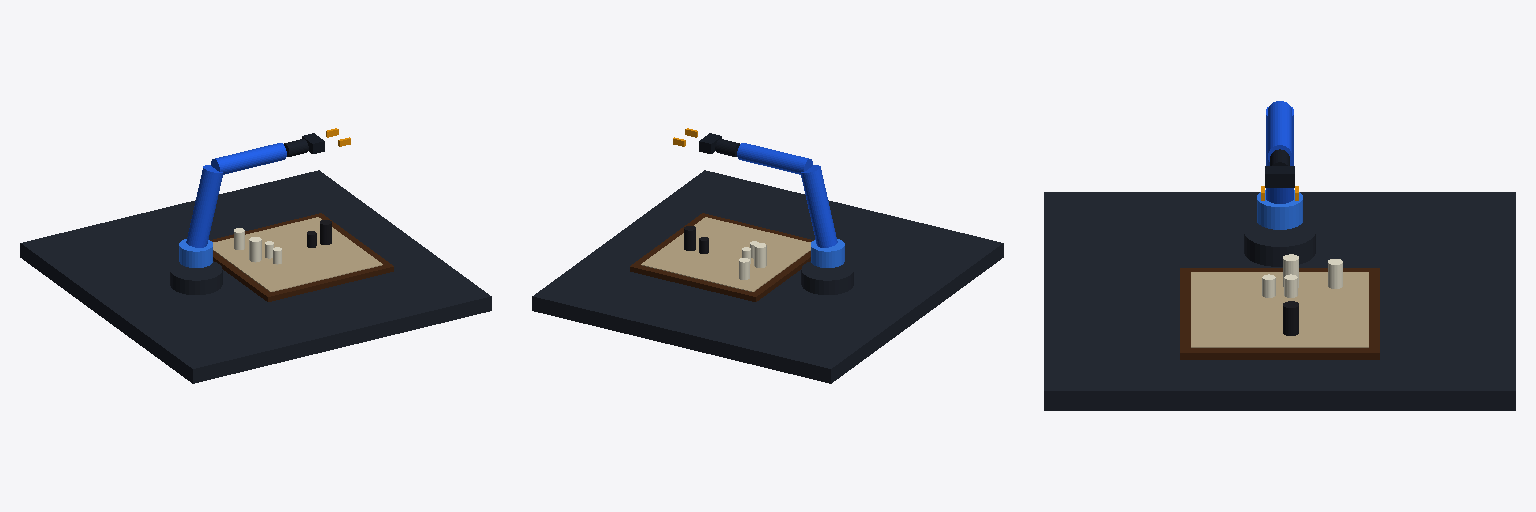
robot.urdf — rx200_chess:
<?xml version="1.0" ?>
<!-- Trossen RX200 Robot Arm with Chessboard and Pick-and-Place Pieces -->
<robot name="rx200_chess">

  <!-- Materials matching Portfolio Demo Video -->
  <material name="table_mat">
    <color rgba="0.16 0.18 0.22 1.0"/>
  </material>
  <material name="board_border_mat">
    <color rgba="0.30 0.18 0.10 1.0"/>
  </material>
  <material name="board_surface_mat">
    <color rgba="0.75 0.68 0.55 1.0"/>
  </material>
  <material name="white_piece_mat">
    <color rgba="0.94 0.92 0.84 1.0"/>
  </material>
  <material name="black_piece_mat">
    <color rgba="0.14 0.14 0.16 1.0"/>
  </material>
  <material name="arm_base_mat">
    <color rgba="0.16 0.18 0.22 1.0"/>
  </material>
  <material name="arm_primary_mat">
    <color rgba="0.15 0.39 0.92 1.0"/>
  </material>
  <material name="arm_accent_mat">
    <color rgba="0.23 0.51 0.96 1.0"/>
  </material>
  <material name="wrist_mat">
    <color rgba="0.12 0.14 0.18 1.0"/>
  </material>
  <material name="finger_mat">
    <color rgba="0.96 0.62 0.07 1.0"/>
  </material>

  <!-- ================= BASE TABLE & CHESS ENVIRONMENT ================= -->
  <link name="table_base">
    <visual>
      <origin xyz="0.15 0.0 -0.02" rpy="0 0 0"/>
      <geometry>
        <box size="0.85 0.85 0.04"/>
      </geometry>
      <material name="table_mat"/>
    </visual>
  </link>

  <!-- Chess Board Frame -->
  <link name="chess_board">
    <visual>
      <origin xyz="0 0 0.007" rpy="0 0 0"/>
      <geometry>
        <box size="0.36 0.36 0.014"/>
      </geometry>
      <material name="board_border_mat"/>
    </visual>
  </link>

  <joint name="table_to_board" type="fixed">
    <parent link="table_base"/>
    <child link="chess_board"/>
    <origin xyz="0.26 0.0 0.0" rpy="0 0 0"/>
  </joint>

  <!-- Chess Board Playfield Surface -->
  <link name="board_surface">
    <visual>
      <origin xyz="0 0 0.001" rpy="0 0 0"/>
      <geometry>
        <box size="0.32 0.32 0.002"/>
      </geometry>
      <material name="board_surface_mat"/>
    </visual>
  </link>

  <joint name="board_to_surface" type="fixed">
    <parent link="chess_board"/>
    <child link="board_surface"/>
    <origin xyz="0 0 0.014" rpy="0 0 0"/>
  </joint>

  <!-- Target White Pawn at e2 with dynamic pick-and-place degrees of freedom -->
  <link name="pawn_e2_carrier">
    <visual>
      <origin xyz="0 0 0.001" rpy="0 0 0"/>
      <geometry>
        <box size="0.002 0.002 0.002"/>
      </geometry>
      <material name="white_piece_mat"/>
    </visual>
  </link>

  <!-- Prismatic joint advancing pawn from e2 to e4 along X (0.00 to 0.08 m) -->
  <joint name="pawn_advance_joint" type="prismatic">
    <parent link="board_surface"/>
    <child link="pawn_e2_carrier"/>
    <origin xyz="-0.06 0.02 0.002" rpy="0 0 0"/>
    <axis xyz="1 0 0"/>
    <limit lower="-0.02" upper="0.12" effort="10.0" velocity="0.5"/>
  </joint>

  <!-- Target White Pawn piece -->
  <link name="piece_pawn_e2">
    <visual>
      <origin xyz="0 0 0.018" rpy="0 0 0"/>
      <geometry>
        <cylinder radius="0.012" length="0.036"/>
      </geometry>
      <material name="white_piece_mat"/>
    </visual>
  </link>

  <!-- Prismatic joint lifting pawn vertically along Z (0.00 to 0.10 m) -->
  <joint name="pawn_lift_joint" type="prismatic">
    <parent link="pawn_e2_carrier"/>
    <child link="piece_pawn_e2"/>
    <origin xyz="0 0 0" rpy="0 0 0"/>
    <axis xyz="0 0 1"/>
    <limit lower="0.00" upper="0.15" effort="10.0" velocity="0.5"/>
  </joint>

  <!-- Target White Pawn at d2 (x = -0.06, y = -0.02 on board) -->
  <link name="piece_pawn_d2">
    <visual>
      <origin xyz="0 0 0.018" rpy="0 0 0"/>
      <geometry>
        <cylinder radius="0.012" length="0.036"/>
      </geometry>
      <material name="white_piece_mat"/>
    </visual>
  </link>

  <joint name="board_to_pawn_d2" type="fixed">
    <parent link="board_surface"/>
    <child link="piece_pawn_d2"/>
    <origin xyz="-0.06 -0.02 0.002" rpy="0 0 0"/>
  </joint>

  <!-- Opposing Black Pawn at e7 (x = 0.06, y = 0.02 on board) -->
  <link name="piece_pawn_e7">
    <visual>
      <origin xyz="0 0 0.018" rpy="0 0 0"/>
      <geometry>
        <cylinder radius="0.012" length="0.036"/>
      </geometry>
      <material name="black_piece_mat"/>
    </visual>
  </link>

  <joint name="board_to_pawn_e7" type="fixed">
    <parent link="board_surface"/>
    <child link="piece_pawn_e7"/>
    <origin xyz="0.06 0.02 0.002" rpy="0 0 0"/>
  </joint>

  <!-- White King at e1 (x = -0.10, y = 0.02 on board) -->
  <link name="piece_king_white">
    <visual>
      <origin xyz="0 0 0.028" rpy="0 0 0"/>
      <geometry>
        <cylinder radius="0.015" length="0.056"/>
      </geometry>
      <material name="white_piece_mat"/>
    </visual>
  </link>

  <joint name="board_to_king_white" type="fixed">
    <parent link="board_surface"/>
    <child link="piece_king_white"/>
    <origin xyz="-0.10 0.02 0.002" rpy="0 0 0"/>
  </joint>

  <!-- Black King at e8 (x = 0.10, y = 0.02 on board) -->
  <link name="piece_king_black">
    <visual>
      <origin xyz="0 0 0.028" rpy="0 0 0"/>
      <geometry>
        <cylinder radius="0.015" length="0.056"/>
      </geometry>
      <material name="black_piece_mat"/>
    </visual>
  </link>

  <joint name="board_to_king_black" type="fixed">
    <parent link="board_surface"/>
    <child link="piece_king_black"/>
    <origin xyz="0.10 0.02 0.002" rpy="0 0 0"/>
  </joint>

  <!-- White Knight at g1 (x = -0.10, y = 0.10 on board) -->
  <link name="piece_knight_white">
    <visual>
      <origin xyz="0 0 0.024" rpy="0 0 0"/>
      <geometry>
        <cylinder radius="0.014" length="0.048"/>
      </geometry>
      <material name="white_piece_mat"/>
    </visual>
  </link>

  <joint name="board_to_knight_white" type="fixed">
    <parent link="board_surface"/>
    <child link="piece_knight_white"/>
    <origin xyz="-0.10 0.10 0.002" rpy="0 0 0"/>
  </joint>

  <!-- Mount Trossen RX200 to table base -->
  <joint name="table_to_rx200_base" type="fixed">
    <parent link="table_base"/>
    <child link="rx200/base_link"/>
    <origin xyz="-0.02 0.0 0.0" rpy="0 0 0"/>
  </joint>

  <!-- ================= TROSSEN RX200 ROBOT ARM ================= -->
  <!-- 1. Turntable Pedestal Base -->
  <link name="rx200/base_link">
    <visual>
      <origin xyz="0 0 0.02" rpy="0 0 0"/>
      <geometry>
        <cylinder radius="0.065" length="0.04"/>
      </geometry>
      <material name="arm_base_mat"/>
    </visual>
  </link>

  <joint name="waist" type="revolute">
    <axis xyz="0 0 1"/>
    <limit effort="8" lower="-3.141582653589793" upper="3.141582653589793" velocity="3.141592653589793"/>
    <origin xyz="0 0 0.06566" rpy="0 0 0"/>
    <parent link="rx200/base_link"/>
    <child link="rx200/shoulder_link"/>
  </joint>

  <!-- 2. Rotating Shoulder Turret -->
  <link name="rx200/shoulder_link">
    <visual>
      <origin xyz="0 0 0.02" rpy="0 0 0"/>
      <geometry>
        <cylinder radius="0.042" length="0.045"/>
      </geometry>
      <material name="arm_accent_mat"/>
    </visual>
  </link>

  <joint name="shoulder" type="revolute">
    <axis xyz="0 1 0"/>
    <limit effort="18" lower="-1.8849555921538759" upper="1.9722220547535925" velocity="1"/>
    <origin xyz="0 0 0.03891" rpy="0 0 0"/>
    <parent link="rx200/shoulder_link"/>
    <child link="rx200/upper_arm_link"/>
  </joint>

  <!-- 3. Slender Upper Arm Boom (Connects shoulder to elbow) -->
  <link name="rx200/upper_arm_link">
    <visual>
      <origin xyz="0.025 0 0.10" rpy="0 0.245 0"/>
      <geometry>
        <cylinder radius="0.026" length="0.20"/>
      </geometry>
      <material name="arm_primary_mat"/>
    </visual>
  </link>

  <joint name="elbow" type="revolute">
    <axis xyz="0 1 0"/>
    <limit effort="13" lower="-1.8849555921538759" upper="1.6231562043547265" velocity="3.141592653589793"/>
    <origin xyz="0.05 0 0.2" rpy="0 0 0"/>
    <parent link="rx200/upper_arm_link"/>
    <child link="rx200/forearm_link"/>
  </joint>

  <!-- 4. Slender Forearm Boom (Connects elbow to wrist along +X) -->
  <link name="rx200/forearm_link">
    <visual>
      <origin xyz="0.10 0 0" rpy="0 1.5707963267948966 0"/>
      <geometry>
        <cylinder radius="0.022" length="0.19"/>
      </geometry>
      <material name="arm_primary_mat"/>
    </visual>
  </link>

  <joint name="wrist_angle" type="revolute">
    <axis xyz="0 1 0"/>
    <limit effort="5" lower="-1.7453292519943295" upper="2.1467549799530254" velocity="3.141592653589793"/>
    <origin xyz="0.2 0 0" rpy="0 0 0"/>
    <parent link="rx200/forearm_link"/>
    <child link="rx200/wrist_link"/>
  </joint>

  <!-- 5. Sleek Wrist Segment (along +X) -->
  <link name="rx200/wrist_link">
    <visual>
      <origin xyz="0.032 0 0" rpy="0 1.5707963267948966 0"/>
      <geometry>
        <cylinder radius="0.018" length="0.055"/>
      </geometry>
      <material name="wrist_mat"/>
    </visual>
  </link>

  <joint name="wrist_rotate" type="revolute">
    <axis xyz="1 0 0"/>
    <limit effort="3" lower="-3.141582653589793" upper="3.141582653589793" velocity="3.141592653589793"/>
    <origin xyz="0.065 0 0" rpy="0 0 0"/>
    <parent link="rx200/wrist_link"/>
    <child link="rx200/gripper_link"/>
  </joint>

  <!-- 6. Compact Gripper Palm Housing (along +X) -->
  <link name="rx200/gripper_link">
    <visual>
      <origin xyz="0.018 0 0" rpy="0 0 0"/>
      <geometry>
        <box size="0.035 0.055 0.028"/>
      </geometry>
      <material name="wrist_mat"/>
    </visual>
  </link>

  <joint name="ee_arm" type="fixed">
    <axis xyz="1 0 0"/>
    <origin xyz="0.043 0 0" rpy="0 0 0"/>
    <parent link="rx200/gripper_link"/>
    <child link="rx200/gripper_prop_link"/>
  </joint>

  <link name="rx200/gripper_prop_link"/>

  <joint name="gripper" type="continuous">
    <axis xyz="1 0 0"/>
    <limit effort="1" velocity="3.141592653589793"/>
    <origin xyz="0.0055 0 0" rpy="0 0 0"/>
    <parent link="rx200/gripper_prop_link"/>
    <child link="rx200/gripper_bar_link"/>
  </joint>

  <link name="rx200/gripper_bar_link"/>

  <joint name="ee_bar" type="fixed">
    <axis xyz="1 0 0"/>
    <origin xyz="0.023 0 0" rpy="0 0 0"/>
    <parent link="rx200/gripper_bar_link"/>
    <child link="rx200/fingers_link"/>
  </joint>

  <link name="rx200/fingers_link"/>

  <!-- 7. Precision Left Gripper Jaw (Moves along +Y, radiant gold) -->
  <joint name="left_finger" type="prismatic">
    <axis xyz="0 1 0"/>
    <limit effort="5" lower="0.015" upper="0.037" velocity="1"/>
    <origin xyz="0 0 0" rpy="0 0 0"/>
    <parent link="rx200/fingers_link"/>
    <child link="rx200/left_finger_link"/>
  </joint>

  <link name="rx200/left_finger_link">
    <visual>
      <origin xyz="0.018 0.005 0" rpy="0 0 0"/>
      <geometry>
        <box size="0.032 0.008 0.016"/>
      </geometry>
      <material name="finger_mat"/>
    </visual>
  </link>

  <!-- 8. Precision Right Gripper Jaw (Moves along -Y, radiant gold) -->
  <joint name="right_finger" type="prismatic">
    <axis xyz="0 1 0"/>
    <limit effort="5" lower="-0.037" upper="-0.015" velocity="1"/>
    <origin xyz="0 0 0" rpy="0 0 0"/>
    <parent link="rx200/fingers_link"/>
    <child link="rx200/right_finger_link"/>
  </joint>

  <link name="rx200/right_finger_link">
    <visual>
      <origin xyz="0.018 -0.005 0" rpy="0 0 0"/>
      <geometry>
        <box size="0.032 0.008 0.016"/>
      </geometry>
      <material name="finger_mat"/>
    </visual>
  </link>

  <joint name="ee_gripper" type="fixed">
    <axis xyz="1 0 0"/>
    <origin xyz="0.027575 0 0" rpy="0 0 0"/>
    <parent link="rx200/fingers_link"/>
    <child link="rx200/ee_gripper_link"/>
  </joint>

  <link name="rx200/ee_gripper_link"/>

</robot>

--- Render facts (derived) ---
Views: 3 orthographic renders of the robot side by side, from view 1: azimuth 30°, elevation 25°; view 2: azimuth 150°, elevation 25°; view 3: azimuth 270°, elevation 25°.
Model rx200_chess with 22 links and 21 joints (5 revolute, 1 continuous, 4 prismatic, 11 fixed), rooted at table_base, posed joints at zero except 2 at the middle of their limits (left_finger = 0.026, right_finger = -0.026).
Links seen in each view (by area): view 1: table_base, board_surface, chess_board, rx200/upper_arm_link, rx200/base_link, rx200/forearm_link, rx200/shoulder_link; view 2: table_base, board_surface, chess_board, rx200/upper_arm_link, rx200/base_link, rx200/forearm_link, rx200/shoulder_link; view 3: table_base, board_surface, chess_board, rx200/base_link, rx200/shoulder_link, rx200/forearm_link, rx200/upper_arm_link, rx200/gripper_link, piece_king_black.
Link boxes in pixels (bbox=[...]): table_base: bbox=[20, 170, 491, 383]; board_surface: bbox=[213, 217, 382, 291]; chess_board: bbox=[210, 213, 393, 301]; rx200/upper_arm_link: bbox=[186, 165, 222, 247]; rx200/base_link: bbox=[170, 261, 222, 294]; rx200/forearm_link: bbox=[211, 143, 286, 174]; rx200/shoulder_link: bbox=[179, 239, 212, 267]; table_base: bbox=[532, 170, 1003, 383]; board_surface: bbox=[641, 217, 810, 291]; chess_board: bbox=[630, 213, 813, 301]; rx200/upper_arm_link: bbox=[801, 165, 837, 247]; rx200/base_link: bbox=[801, 261, 853, 294]; rx200/forearm_link: bbox=[737, 143, 812, 174]; rx200/shoulder_link: bbox=[811, 239, 844, 267]; table_base: bbox=[1044, 192, 1515, 410]; board_surface: bbox=[1191, 272, 1368, 347]; chess_board: bbox=[1180, 268, 1379, 359]; rx200/base_link: bbox=[1244, 220, 1315, 266]; rx200/shoulder_link: bbox=[1257, 190, 1302, 229]; rx200/forearm_link: bbox=[1268, 101, 1291, 161]; rx200/upper_arm_link: bbox=[1266, 107, 1293, 203]; rx200/gripper_link: bbox=[1265, 166, 1294, 187]; piece_king_black: bbox=[1283, 301, 1298, 335].
Bounding box of the posed robot: 0.85 × 0.85 × 0.3666 m (x, y, z).
Geometry: primitives only (box / cylinder / sphere), no mesh files.
